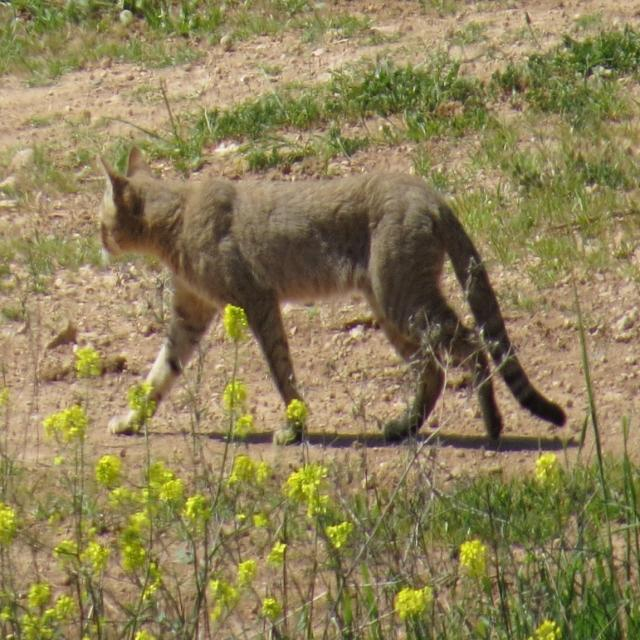cat: (100, 149, 566, 439)
